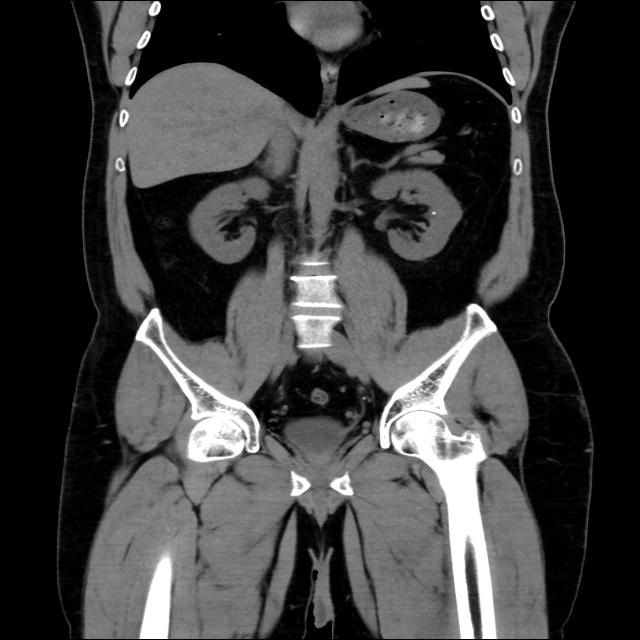kidneystone: (431, 211, 437, 215)
